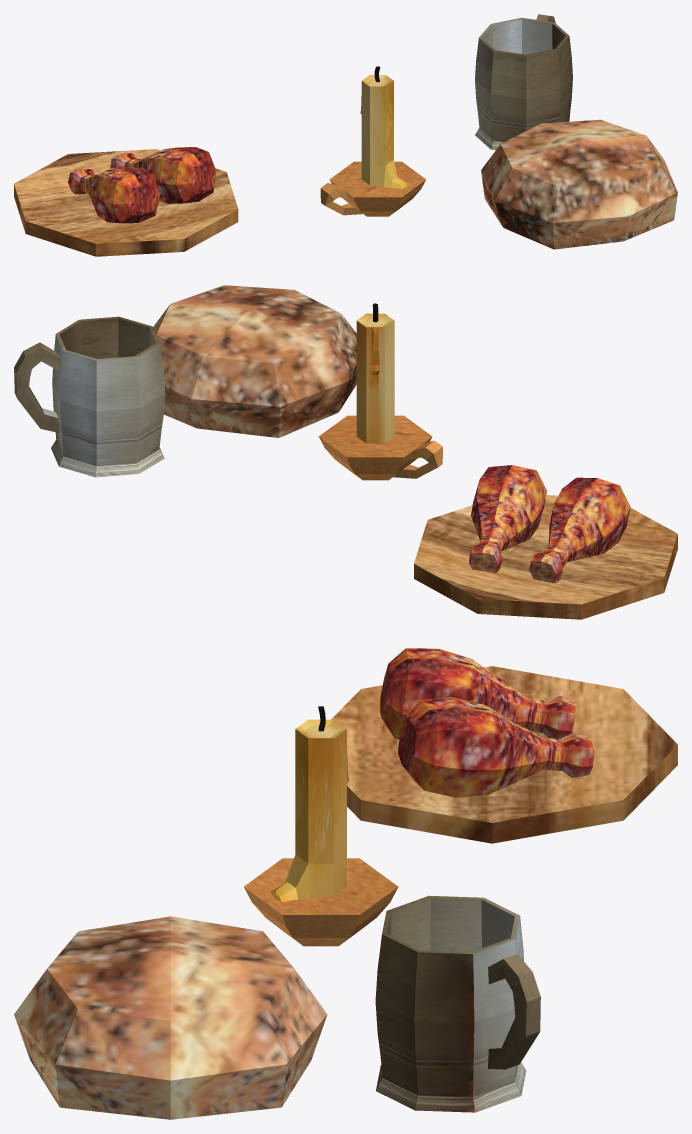
The model's file is TableClutter2.fbx.
The picture shows the model from 3 angles, top to bottom: view 1: azimuth 30°, elevation 25°; view 2: azimuth 150°, elevation 25°; view 3: azimuth 270°, elevation 25°; orthographic projection. The views are drawn at different scales.
Parts seen in each view (by area): view 1: Cube.008, Cylinder.004, Cylinder.002, Cube.005, Candle, Cube.001, Base; view 2: Cube.008, Cylinder.002, Cylinder.004, Cube.005, Cube.001, Base, Candle; view 3: Cube.008, Cylinder.002, Cylinder.004, Cube.001, Candle, Cube.005, Base.
Boxes of the visible parts, x1,y1,x2,y2 form: Cube.008: (481, 119, 677, 249); Cylinder.004: (14, 149, 238, 256); Cylinder.002: (475, 14, 572, 150); Cube.005: (68, 167, 160, 223); Candle: (360, 75, 409, 189); Cube.001: (110, 147, 216, 203); Base: (320, 161, 425, 216); Cube.008: (153, 285, 356, 437); Cylinder.002: (14, 316, 165, 477); Cylinder.004: (414, 495, 677, 619); Cube.005: (529, 477, 630, 583); Cube.001: (469, 465, 546, 573); Base: (318, 415, 442, 480); Candle: (356, 313, 394, 443); Cube.008: (14, 916, 327, 1119); Cylinder.002: (375, 895, 540, 1112); Cylinder.004: (331, 666, 677, 843); Cube.001: (398, 697, 594, 797); Candle: (270, 719, 348, 901); Cube.005: (380, 648, 575, 739); Base: (244, 858, 398, 946).
Size of the model in its own units: 227 by 58.42 by 151.
1 material, 1 textured.
